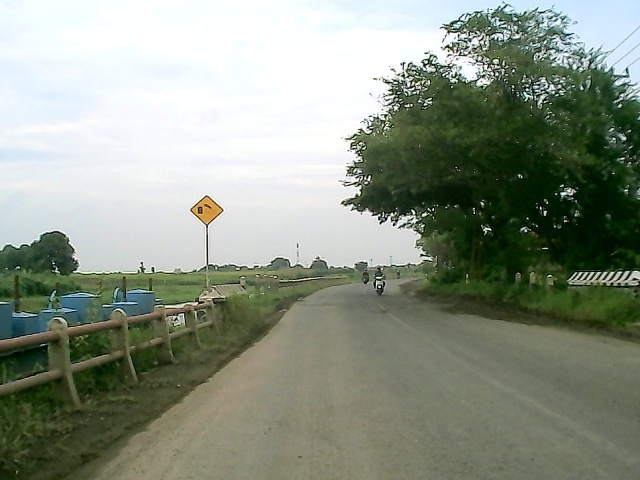Peringatan tepi air: (188, 192, 225, 229)
